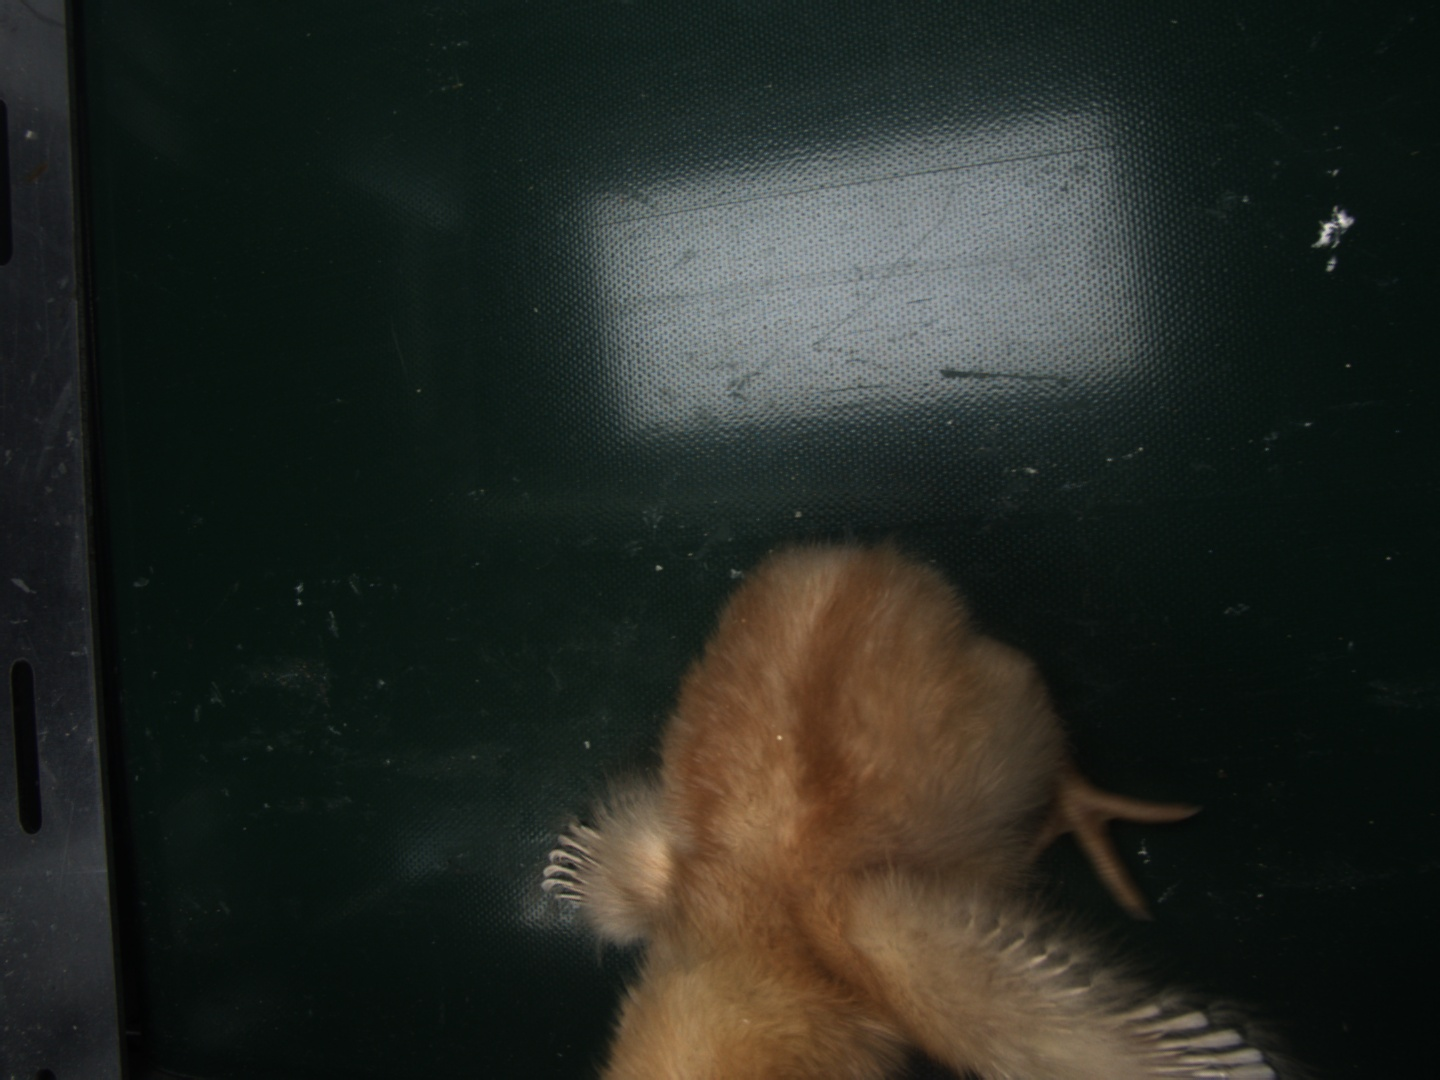female: (1116, 1006, 1278, 1080), (537, 822, 611, 906)
